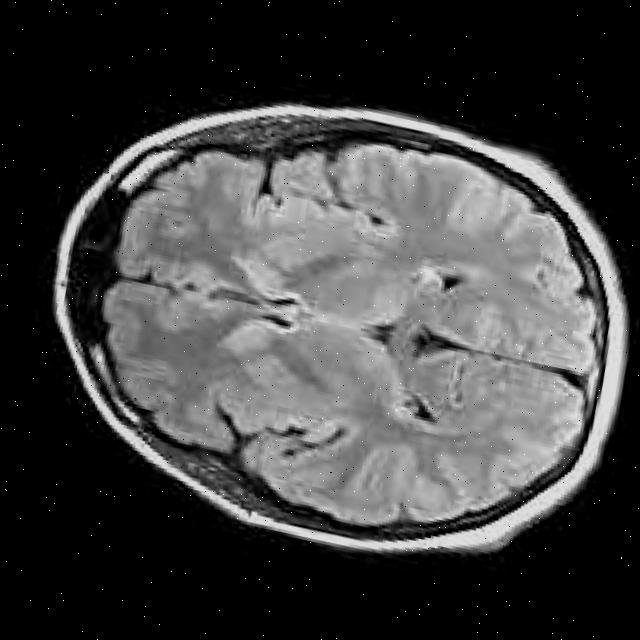NoTumor: (52, 79, 640, 575)
